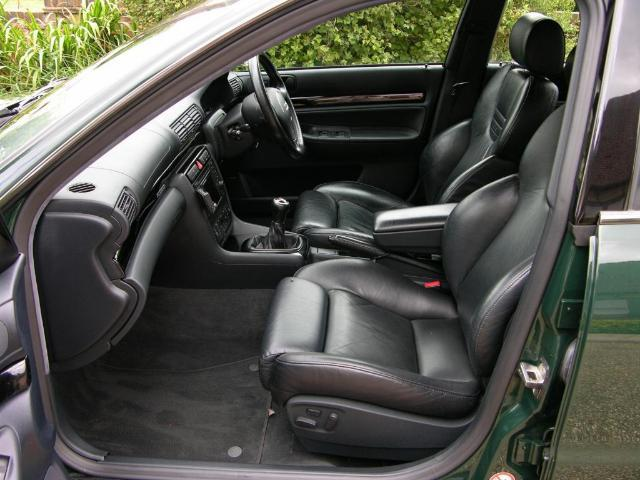Seatbelt: (442, 33, 482, 130)
